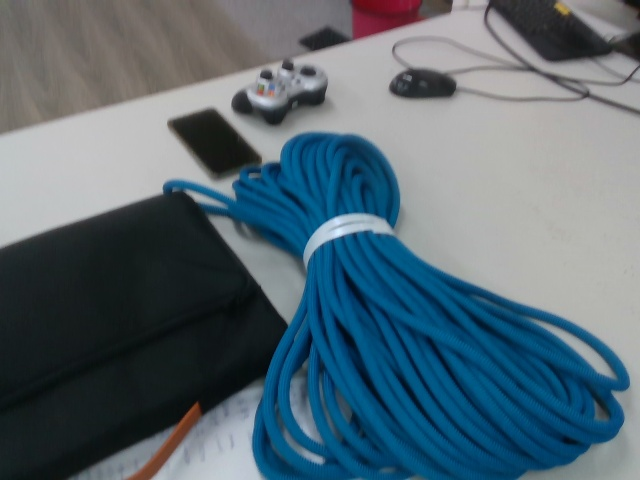rope: (160, 129, 634, 480)
